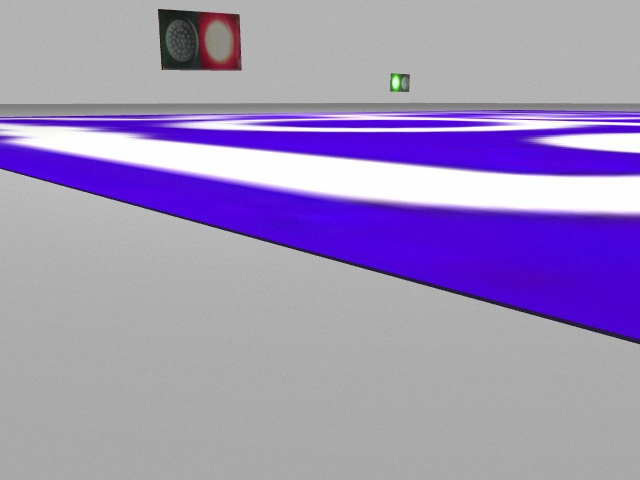red: (199, 10, 241, 72)
